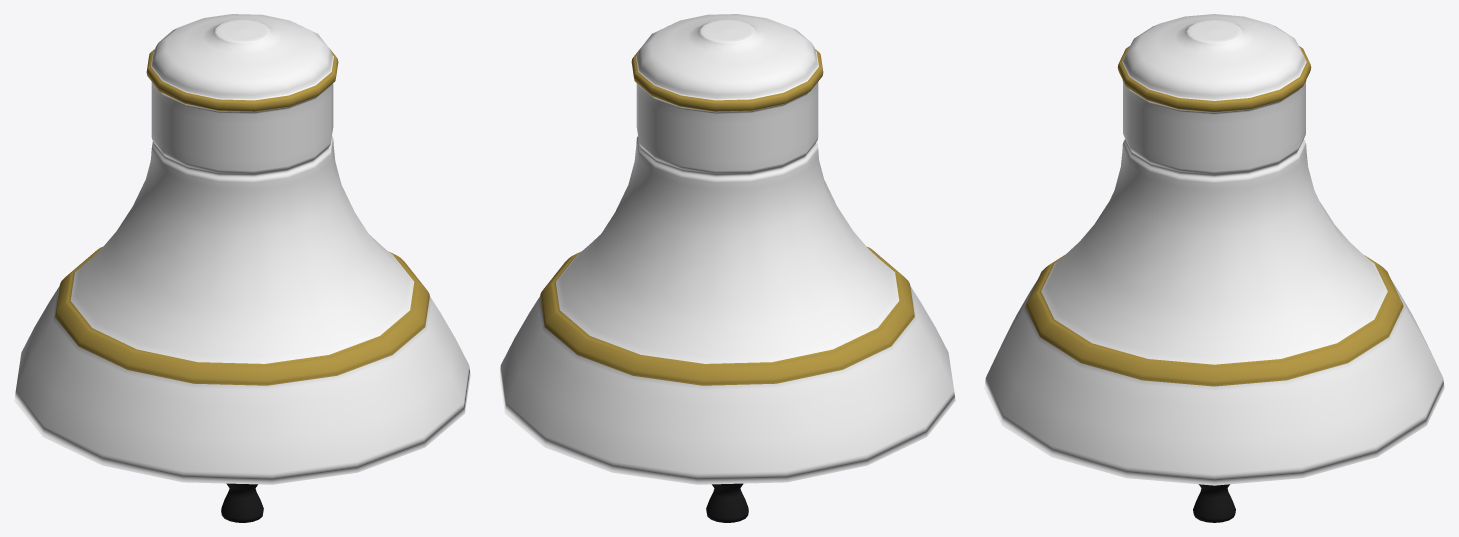
The picture shows the model from 3 angles, left to right: view 1: azimuth 30°, elevation 25°; view 2: azimuth 150°, elevation 25°; view 3: azimuth 270°, elevation 25°; orthographic projection.
Visible parts, largest first — view 1: BELL, ROD; view 2: BELL, ROD; view 3: BELL, ROD.
Boxes of the visible parts, x1,y1,x2,y2 form: BELL: (14, 14, 470, 484); ROD: (221, 483, 263, 522); BELL: (499, 14, 955, 484); ROD: (706, 483, 748, 522); BELL: (984, 14, 1444, 485); ROD: (1193, 484, 1235, 522).
Size of the model in its own units: 0.285 by 0.3319 by 0.285.
Materials: 1 (1 with a texture image).
